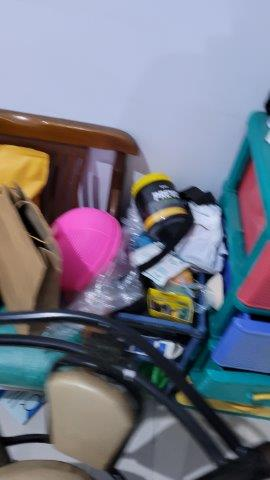plastik: (56, 280, 139, 310)
